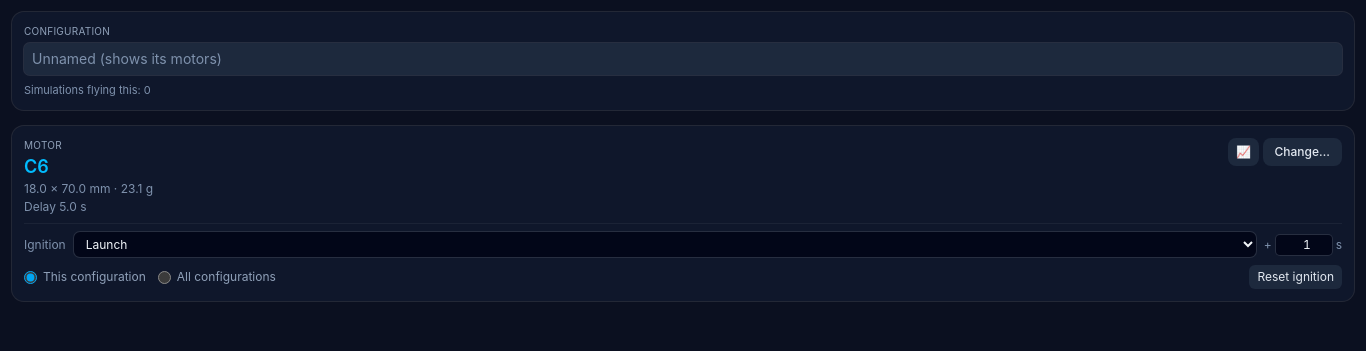
Test: ConfigEditor ignition scope › applies the ignition as it stands to every configuration, then has nothing left to apply
What coordinates should you click on to do the following:
click the radio button labelled "All configurations"
I would click on:
 (164, 277)
Its box is top-left (158, 271), bottom-right (171, 284).
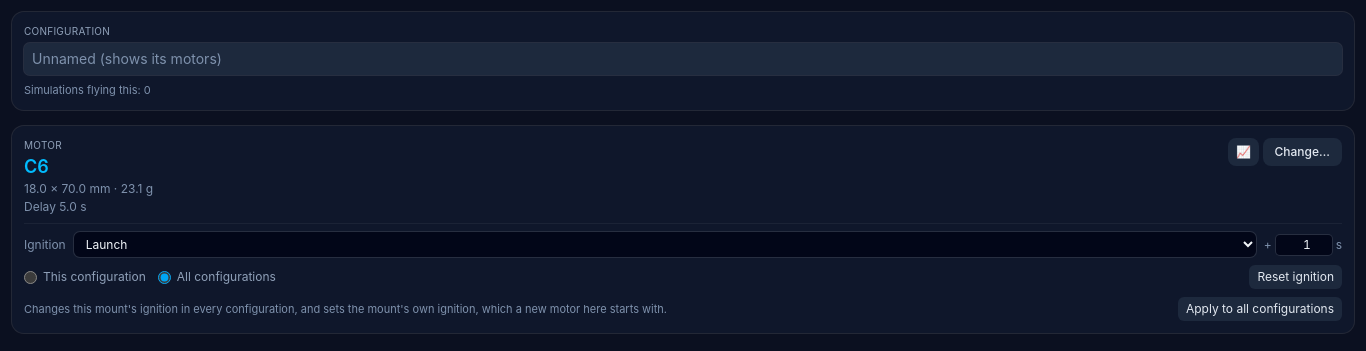
Check: the button "Apply to all configurations" is enabled
What coordinates should you click on to do the following:
click the button "Apply to all configurations"
I would click on:
 (1260, 309)
Its box is top-left (1178, 297), bottom-right (1342, 321).
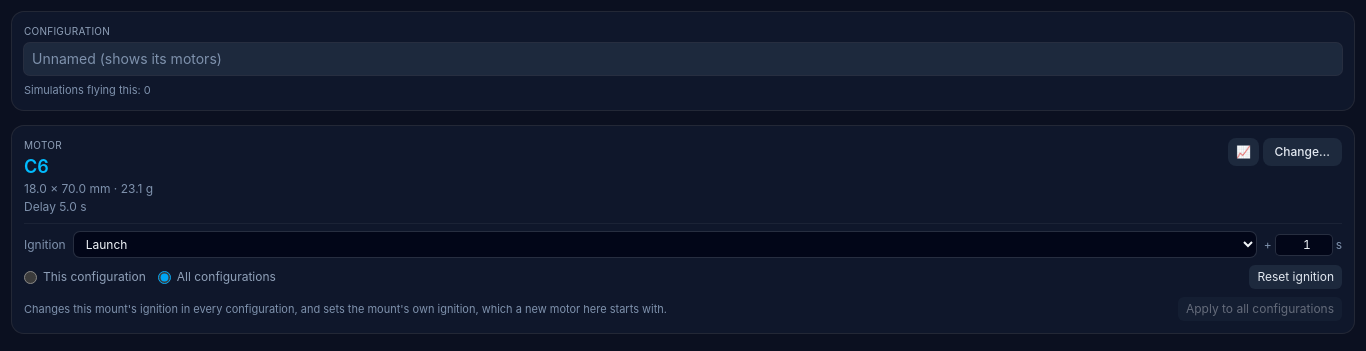
Check: the button "Apply to all configurations" is disabled, box top-left (1178, 297), bottom-right (1342, 321)
